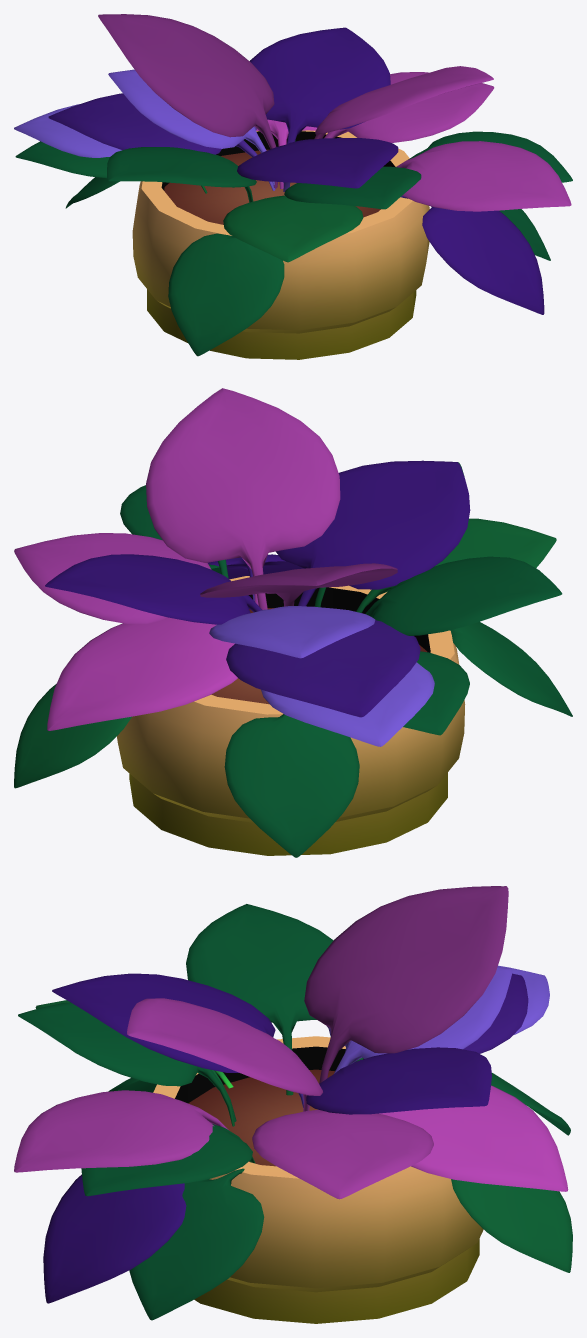
The model's file is Plant 5.fbx.
3 views of the same model, one above another, from view 1: azimuth 30°, elevation 25°; view 2: azimuth 150°, elevation 25°; view 3: azimuth 270°, elevation 25° (orthographic). The views are drawn at different scales.
Parts seen in each view (by area): view 1: Plant 5, Pot 5; view 2: Plant 5, Pot 5; view 3: Plant 5, Pot 5.
Part boxes in pixels (x1,y1,x2,y2): Plant 5: [14, 14, 572, 356]; Pot 5: [132, 130, 429, 359]; Plant 5: [14, 388, 572, 857]; Pot 5: [117, 576, 465, 855]; Plant 5: [14, 886, 572, 1320]; Pot 5: [153, 1036, 483, 1323].
Bounding box in the file's own units: 297 × 171 × 281.
